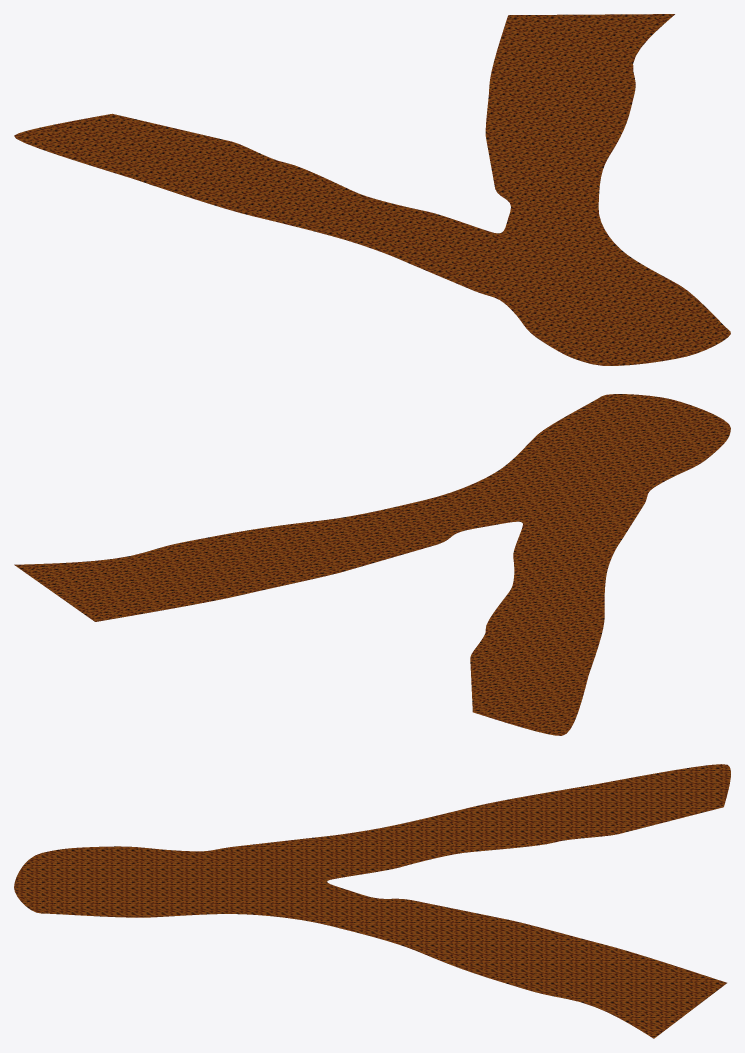
File: path.FBX
3 views of the same model, one above another, from view 1: azimuth 30°, elevation 25°; view 2: azimuth 150°, elevation 25°; view 3: azimuth 270°, elevation 25° (orthographic). The views are drawn at different scales.
Parts seen in each view (by area): view 1: Line001; view 2: Line001; view 3: Line001.
Boxes of the visible parts, box(x1,y1,x2,y2) form: Line001: box(14, 14, 730, 365); Line001: box(14, 394, 730, 735); Line001: box(14, 764, 730, 1038).
Size of the model in its own units: 5206 by 0.1 by 5742.
